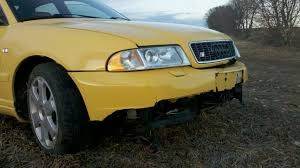Dent: (88, 75, 248, 125)
